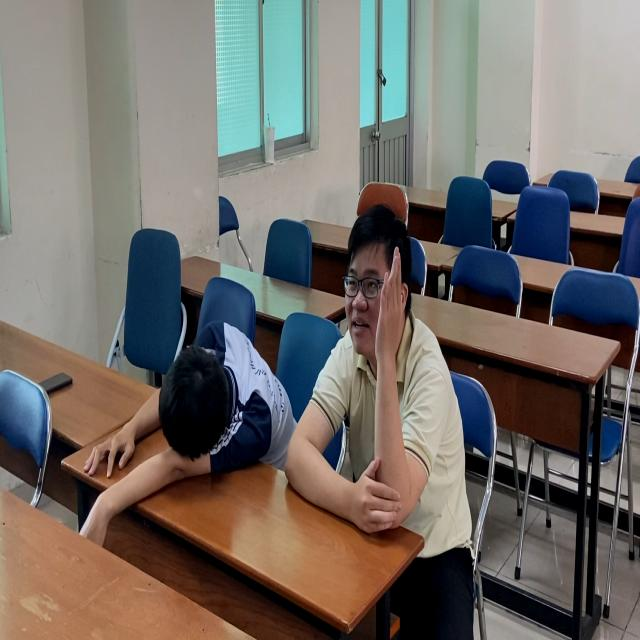raise_hand: (324, 206, 464, 556)
sleep: (73, 315, 291, 490)
